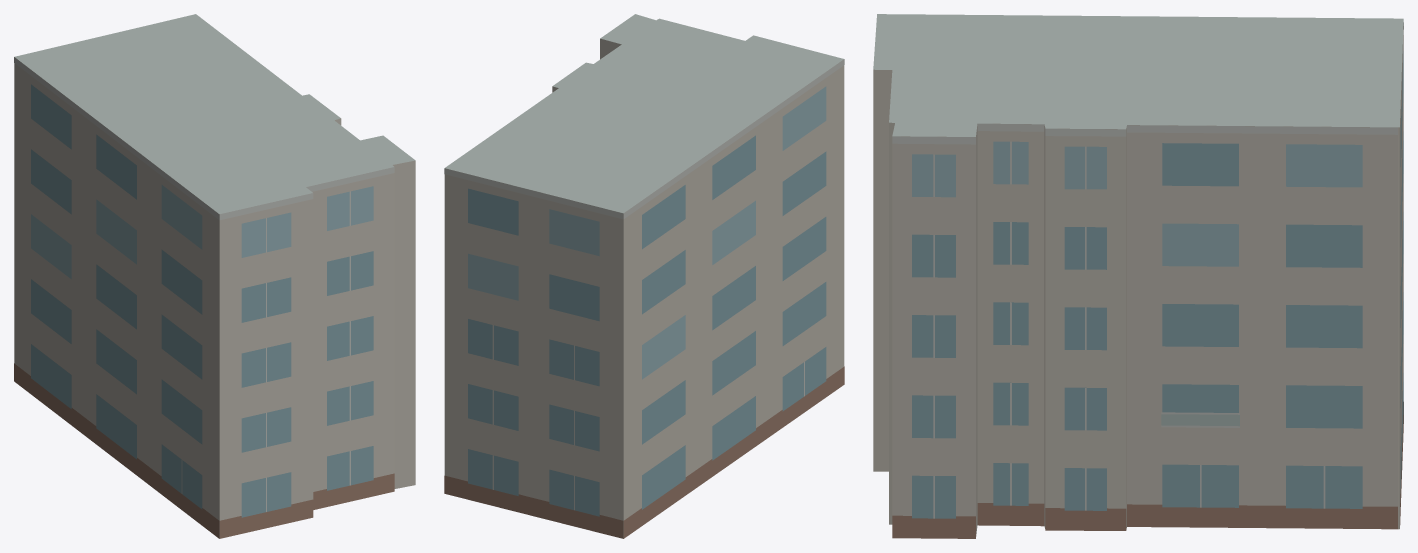
File: survey-upis-32783480.glb
3 views of the same model, side by side, from view 1: azimuth 30°, elevation 25°; view 2: azimuth 150°, elevation 25°; view 3: azimuth 270°, elevation 25° (orthographic). The views are drawn at different scales.
Visible parts, largest first — view 1: survey-upis-32783480.tmp; view 2: survey-upis-32783480.tmp; view 3: survey-upis-32783480.tmp.
Part boxes in pixels (x1,y1,x2,y2): survey-upis-32783480.tmp: (14,14,415,538); survey-upis-32783480.tmp: (444,14,844,538); survey-upis-32783480.tmp: (873,14,1403,538).
Bounding box in the file's own units: 8.61 × 13.1 × 15.69.
